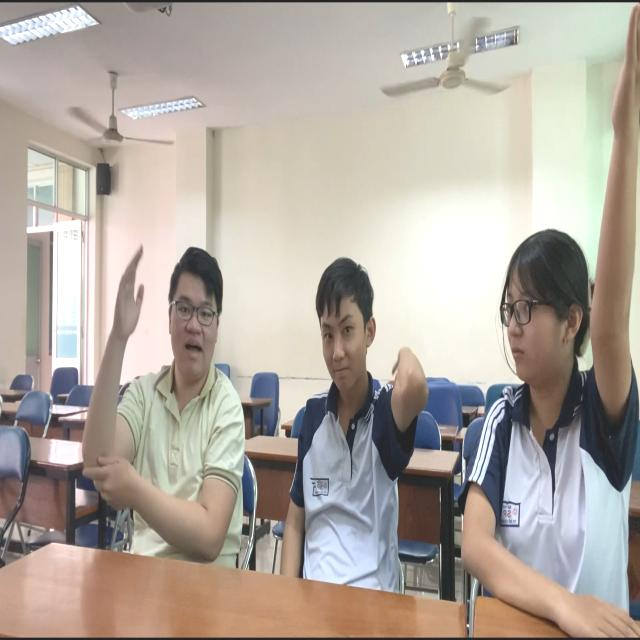raise_hand: (470, 1, 636, 640), (82, 237, 252, 569)
